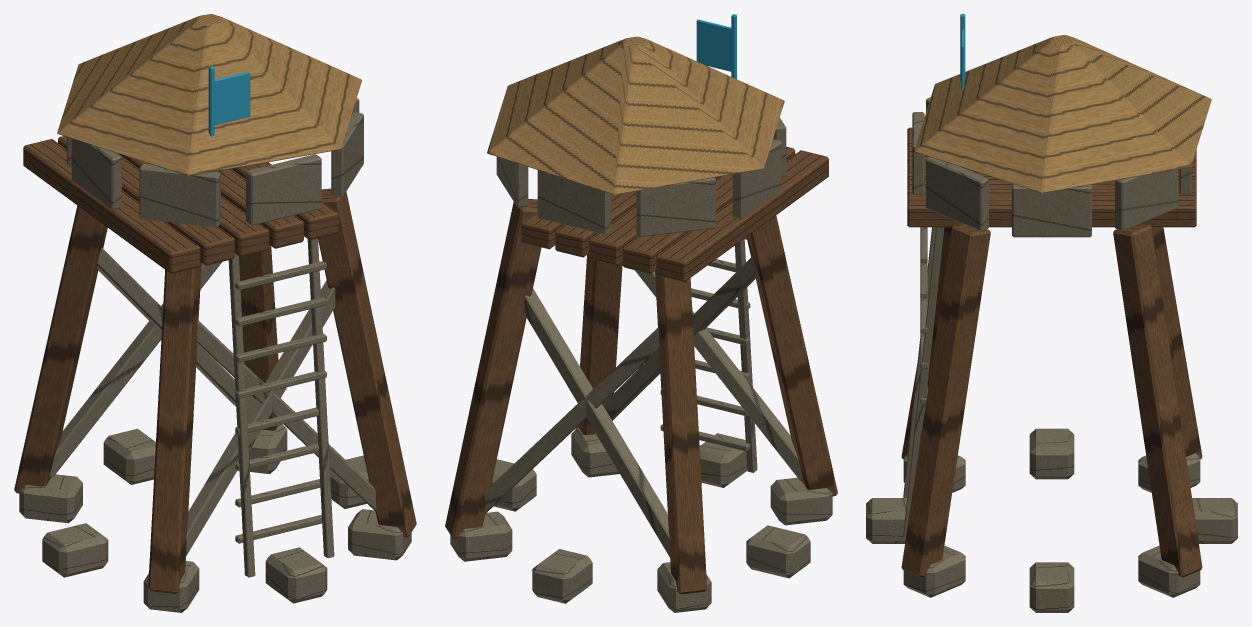
Rendered from edificio-tower-e0-B9JehCCO.glb.
The picture shows the model from 3 angles, left to right: view 1: azimuth 30°, elevation 25°; view 2: azimuth 150°, elevation 25°; view 3: azimuth 270°, elevation 25°; orthographic projection. The views are drawn at different scales.
Parts seen in each view (by area): view 1: envolvente_torre, team_color; view 2: envolvente_torre, team_color; view 3: envolvente_torre.
Boxes of the visible parts, box(x1,y1,x2,y2) form: envolvente_torre: box(14, 14, 416, 612); team_color: box(208, 66, 250, 136); envolvente_torre: box(445, 36, 837, 612); team_color: box(696, 14, 736, 79); envolvente_torre: box(866, 35, 1237, 612).
Size of the model in its own units: 33.4 by 49.44 by 33.4.
Materials: 2 (1 with a texture image).
